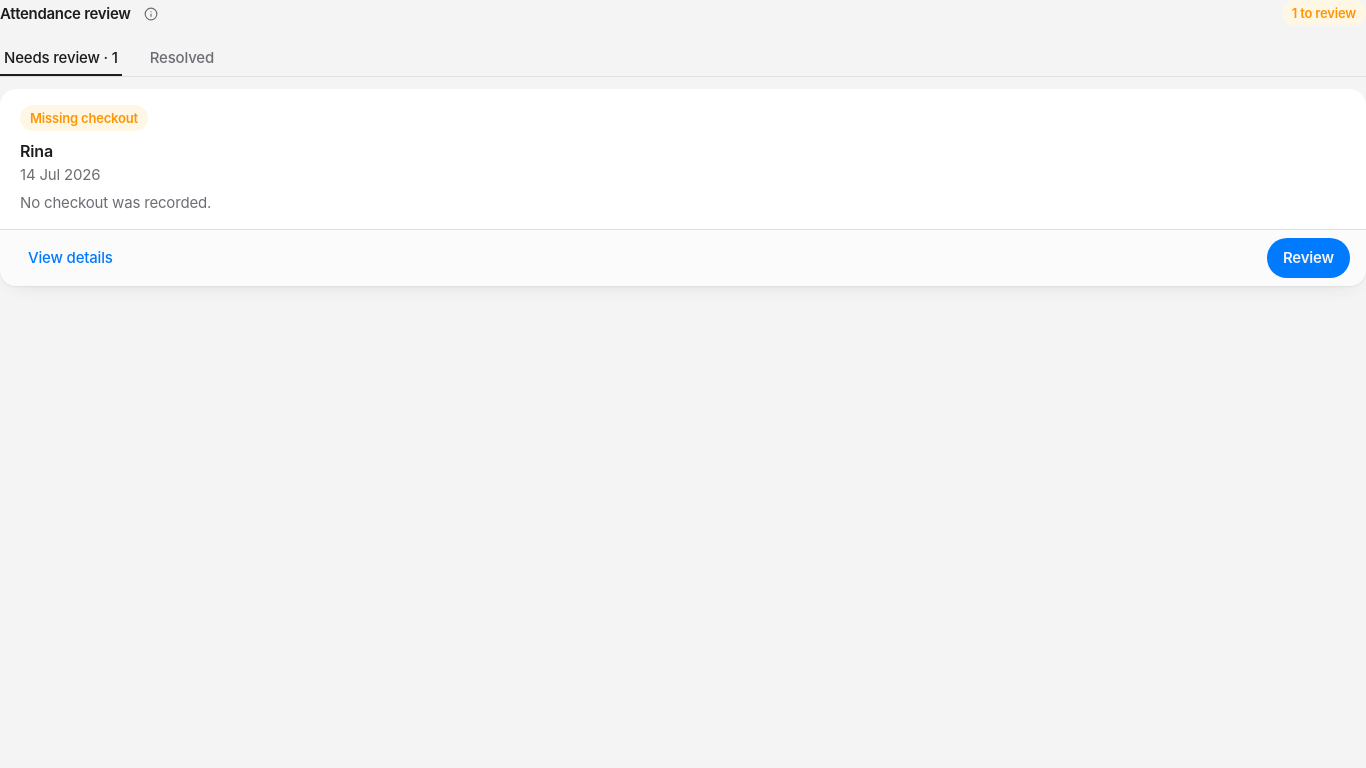
Test case: employee warning review UI › shows yellow warning labels and only the two simple review choices
The image size is (1366, 768).
Click the button "Review" at (1308, 258), box [1267,238,1350,278]
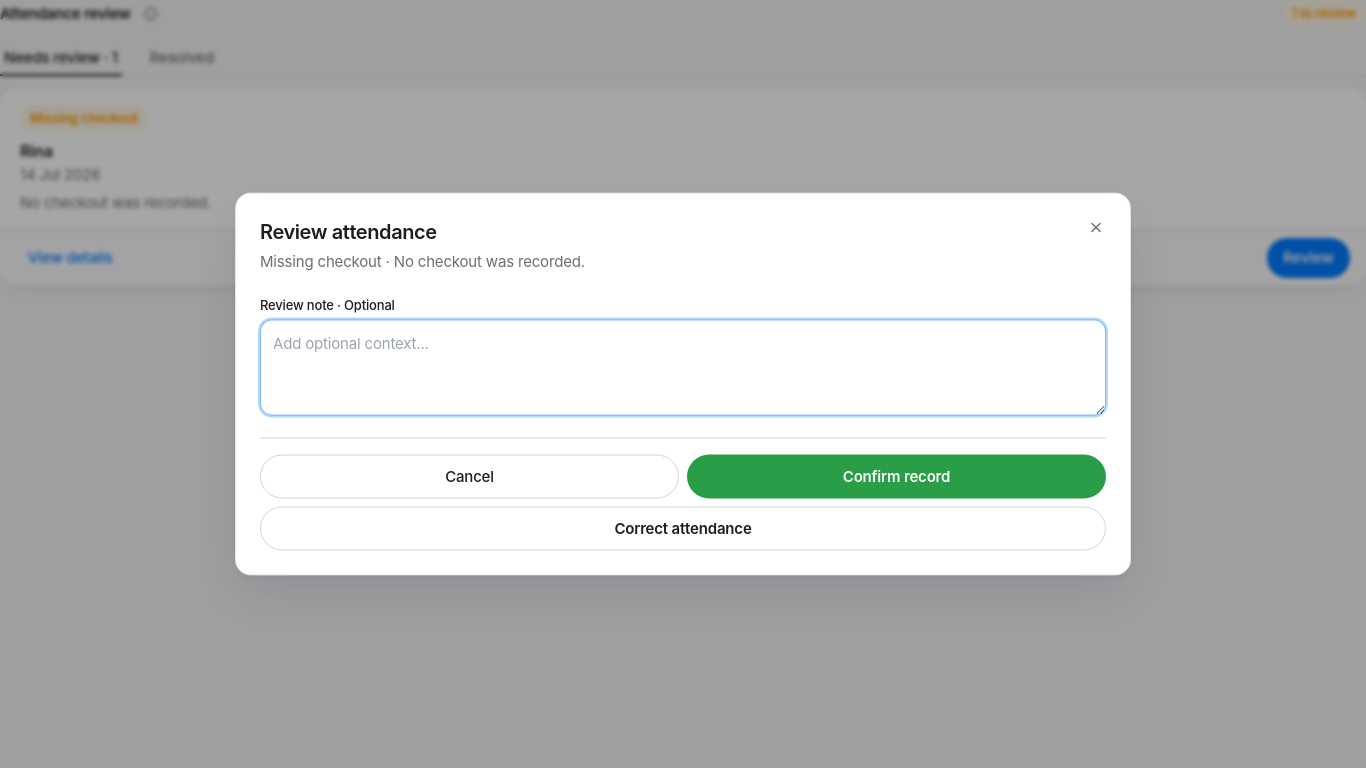
expect the button "Confirm record" is shown: met, box [687,454,1106,498]
expect the button "Correct attendance" is shown: met, box [260,506,1106,550]
